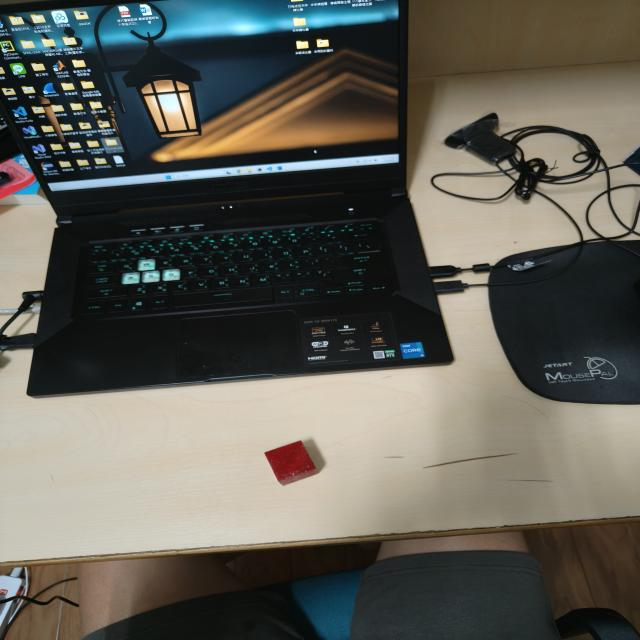red_block: (262, 439, 319, 487)
